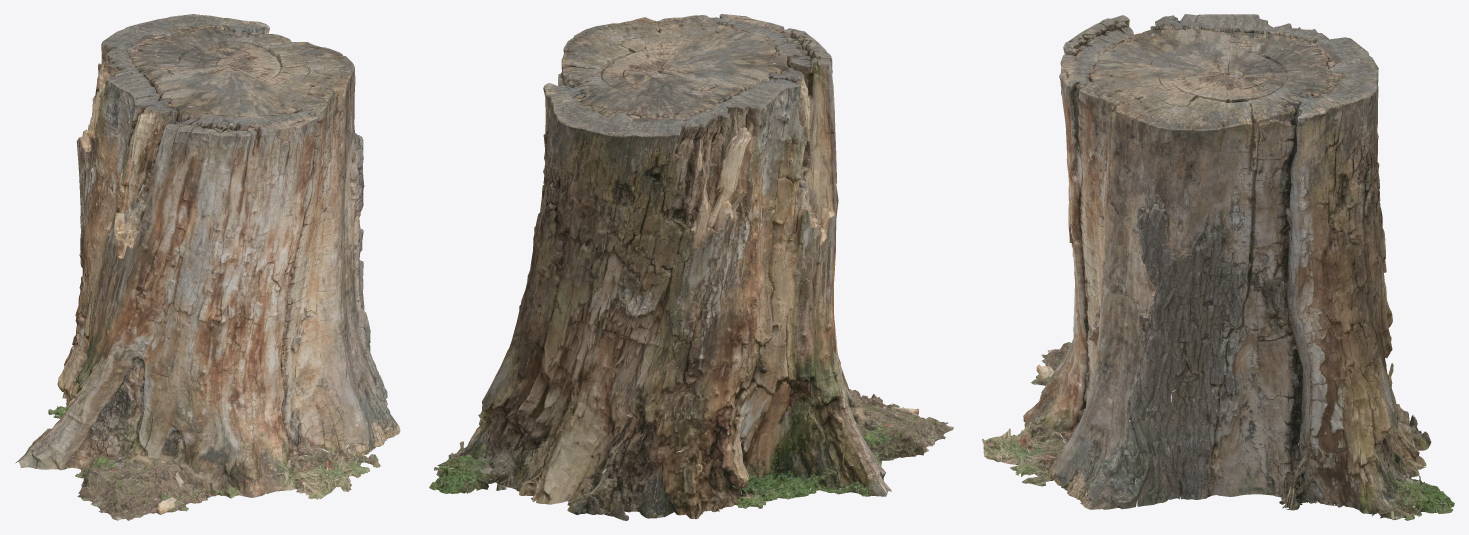
The model's file is tree-stump-poplar.glb.
The picture shows the model from 3 angles, left to right: view 1: azimuth 30°, elevation 25°; view 2: azimuth 150°, elevation 25°; view 3: azimuth 270°, elevation 25°; orthographic projection. The views are drawn at different scales.
Parts seen in each view (by area): view 1: Model_material1_0, Model_material0_0, Model_material2_0; view 2: Model_material1_0, Model_material2_0, Model_material0_0; view 3: Model_material0_0, Model_material2_0, Model_material1_0.
Part boxes in pixels (left/top/right/bottom): Model_material1_0: left=15, top=14, right=400, bottom=520; Model_material0_0: left=48, top=18, right=390, bottom=520; Model_material2_0: left=25, top=41, right=390, bottom=514; Model_material1_0: left=495, top=14, right=953, bottom=515; Model_material2_0: left=434, top=17, right=928, bottom=520; Model_material0_0: left=429, top=14, right=948, bottom=518; Model_material0_0: left=982, top=15, right=1453, bottom=520; Model_material2_0: left=983, top=14, right=1454, bottom=520; Model_material1_0: left=995, top=17, right=1431, bottom=510.
Bounding box in the file's own units: 6.46 × 6.29 × 7.04.
3 materials, 3 textured.
